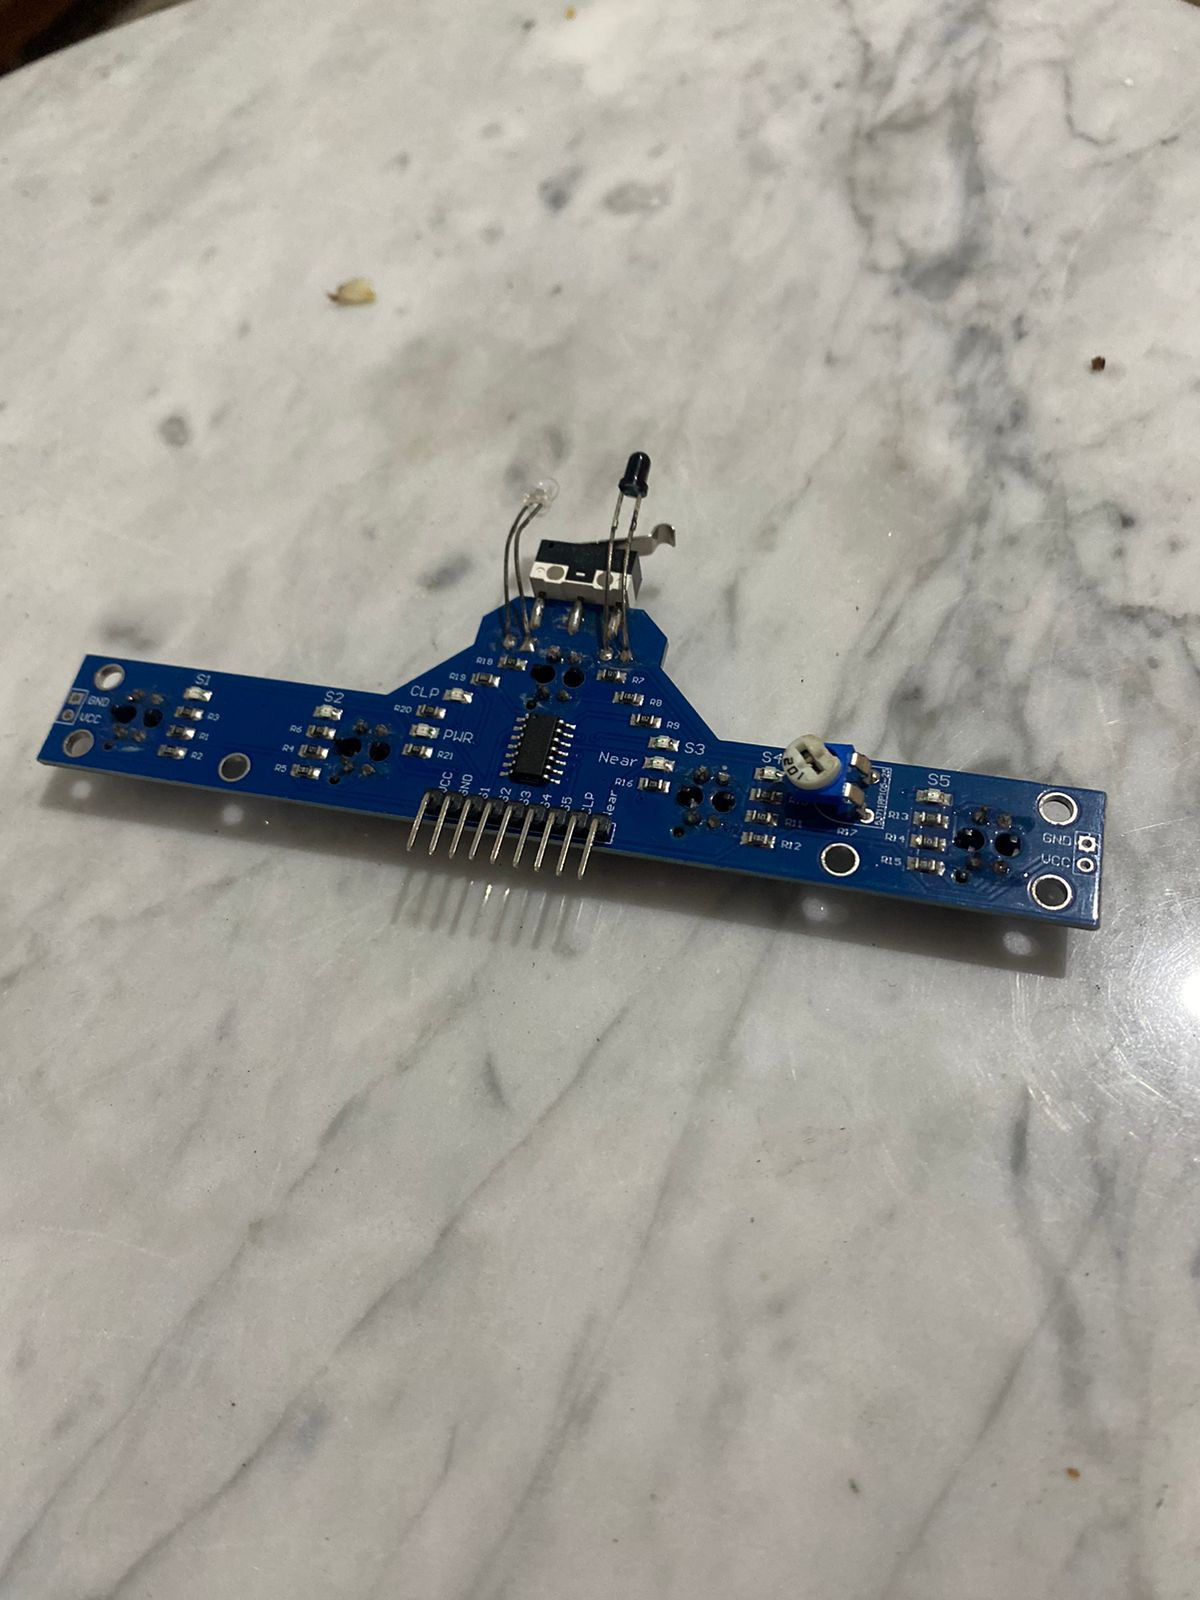Capteur-IR-5 Voies: (32, 445, 1118, 1010)
